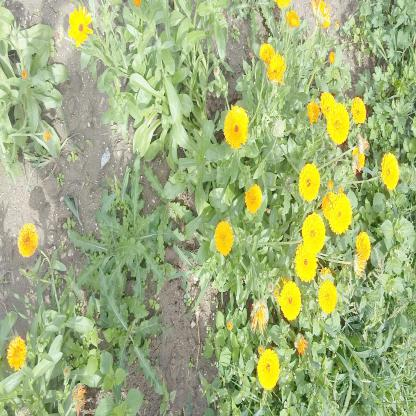marigold: (280, 281, 302, 321), (226, 106, 247, 147), (258, 349, 279, 389), (68, 7, 91, 43), (296, 243, 317, 282), (330, 194, 350, 234), (328, 105, 349, 143), (302, 215, 324, 251), (300, 163, 320, 199), (18, 224, 37, 258), (318, 280, 336, 315), (382, 151, 399, 188), (7, 337, 25, 370), (244, 182, 262, 215), (216, 221, 232, 255), (320, 90, 338, 118), (351, 97, 365, 124), (357, 231, 369, 260)
